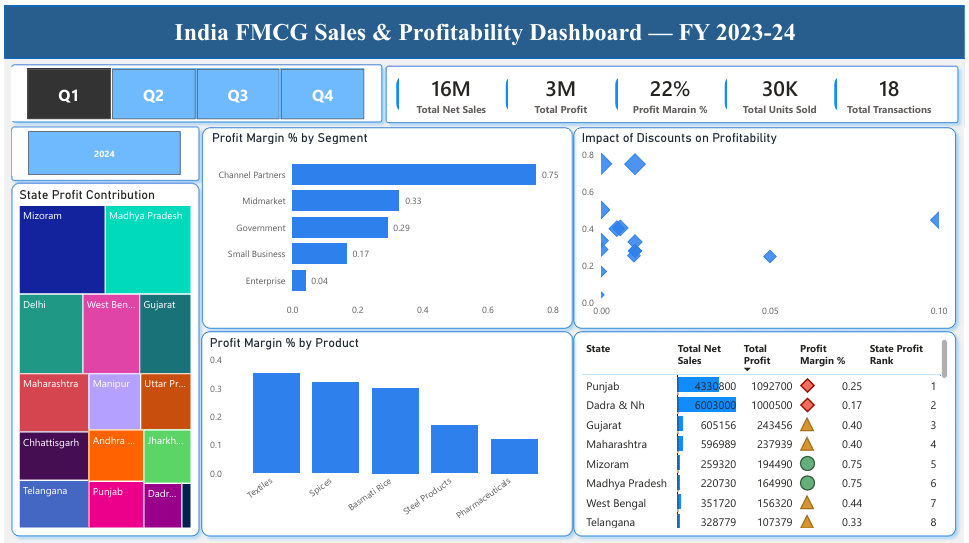

The page's visual inventory and layout, read from the dashboard file:
{"tool":"powerbi","page":{"name":"Executive Summary ","canvas":[1280,720],"ordinal":0},"visuals":[{"type":"shape","box":[499,70.9,781.2,94.5],"z":0},{"type":"shape","box":[0,151.5,268.3,90.3],"z":1000},{"type":"shape","box":[0,226.6,268.3,489.3],"z":2000},{"type":"shape","box":[0,69.5,511.5,94.5],"z":3000},{"type":"shape","box":[749.2,425.3,528.2,290.5],"z":4000},{"type":"shape","box":[749.2,152.9,528.2,286.3],"z":5000},{"type":"shape","box":[254.4,152.9,511.5,286.3],"z":6000},{"type":"shape","title":"India FMCG Sales Dashboard — FY 2023-24","box":[0,0,1280.2,70],"z":7000},{"type":"textbox","box":[0,11.1,1280.2,58.4],"z":8000},{"type":"cardVisual","fields":{"Data":["FactSales.Total Net Sales","FactSales.Total Profit","FactSales.Profit Margin % D","FactSales.Total Units Sold","FactSales.Total Transactions"]},"box":[511.5,82,750.6,70.9],"z":9000},{"type":"slicer","fields":{"Values":["DateTable.Year"]},"box":[9.7,165.4,243.2,61.2],"z":10000},{"type":"slicer","fields":{"Values":["DateTable.Quarter"]},"box":[9,82,489,70.9],"z":11000},{"type":"tableEx","title":"dfv","fields":{"Values":["FactSales.State","FactSales.Total Net Sales","FactSales.Total Profit","FactSales.Profit Margin %","FactSales.State Profit Rank"]},"box":[764.5,439.2,497.6,261.3],"z":12000},{"type":"clusteredBarChart","fields":{"Category":["FactSales.Segment"],"Y":["FactSales.Profit Margin %"]},"box":[271,165.4,480.9,258.5],"z":13000},{"type":"shape","box":[253,425.3,512.9,290.5],"z":14000},{"type":"clusteredColumnChart","fields":{"Category":["FactSales.Product"],"Y":["FactSales.Profit Margin %"]},"box":[268.3,439.2,480.9,261.3],"z":15000},{"type":"treemap","title":"State Profit Contribution","fields":{"Values":["FactSales.Profit Margin %"],"Group":["FactSales.State"]},"box":[13.9,241.9,239.1,458.7],"z":16000},{"type":"scatterChart","title":"Impact of Discounts on Profitability","fields":{"X":["FactSales.Discount Rate %"],"Y":["FactSales.Profit Margin %"],"Category":["FactSales.State"],"Size":["FactSales.Profit Margin %"]},"box":[764.5,165.4,497.6,259.9],"z":17000}]}

Visuals, with their boxes in screenshot pixels (x1, y1, x2, y2), scaled from the page's 1280x720 canvas onto the 969x543 screenshot:
shape: [left=378, top=53, right=968, bottom=125]
shape: [left=0, top=114, right=203, bottom=182]
shape: [left=0, top=171, right=203, bottom=540]
shape: [left=0, top=52, right=387, bottom=124]
shape: [left=567, top=321, right=967, bottom=540]
shape: [left=567, top=115, right=967, bottom=331]
shape: [left=193, top=115, right=580, bottom=331]
"India FMCG Sales Dashboard — FY 2023-24" shape: [left=0, top=0, right=968, bottom=53]
textbox: [left=0, top=8, right=968, bottom=52]
cardVisual - FactSales.Total Net Sales x FactSales.Total Profit: [left=387, top=62, right=955, bottom=115]
slicer - DateTable.Year: [left=7, top=125, right=191, bottom=171]
slicer - DateTable.Quarter: [left=7, top=62, right=377, bottom=115]
"dfv" tableEx: [left=579, top=331, right=955, bottom=528]
clusteredBarChart - FactSales.Segment x FactSales.Profit Margin %: [left=205, top=125, right=569, bottom=320]
shape: [left=192, top=321, right=580, bottom=540]
clusteredColumnChart - FactSales.Product x FactSales.Profit Margin %: [left=203, top=331, right=567, bottom=528]
"State Profit Contribution" treemap: [left=11, top=182, right=192, bottom=528]
"Impact of Discounts on Profitability" scatterChart: [left=579, top=125, right=955, bottom=321]
